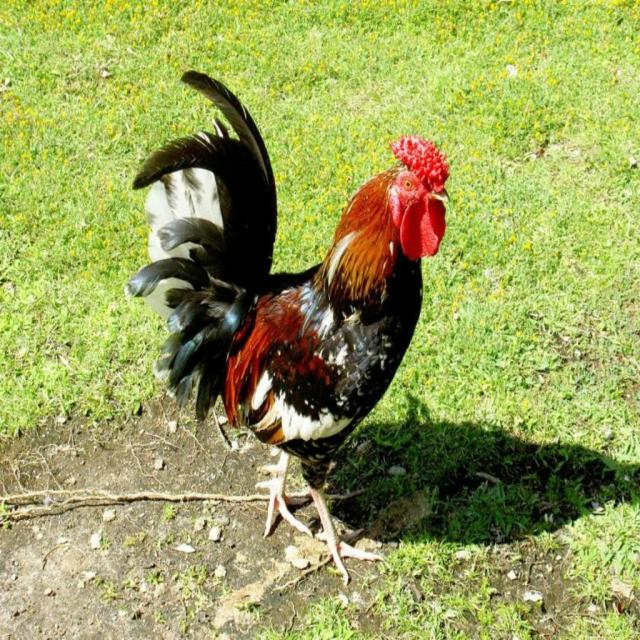Chicken: (125, 70, 449, 584)
